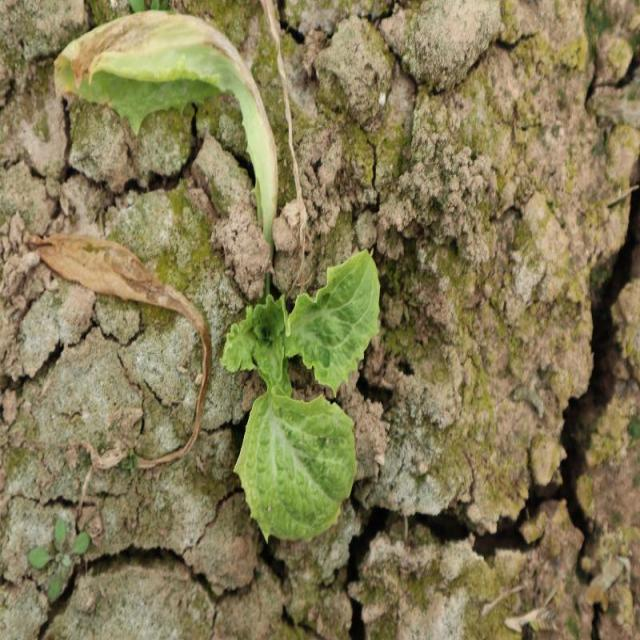crop: (218, 246, 381, 544)
